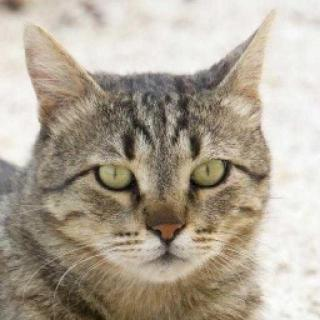cat: (19, 20, 277, 286)
nose: (141, 194, 186, 250)
